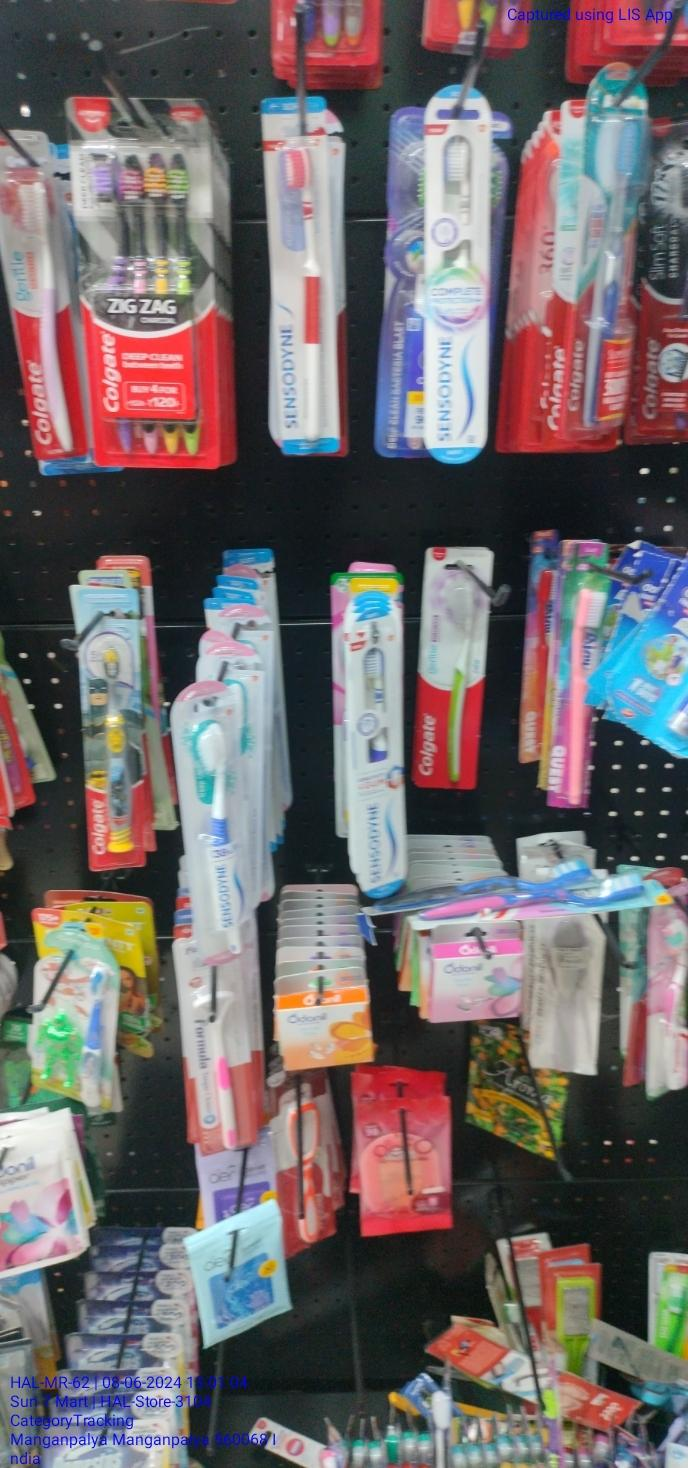liquid soap: (70, 93, 217, 469)
